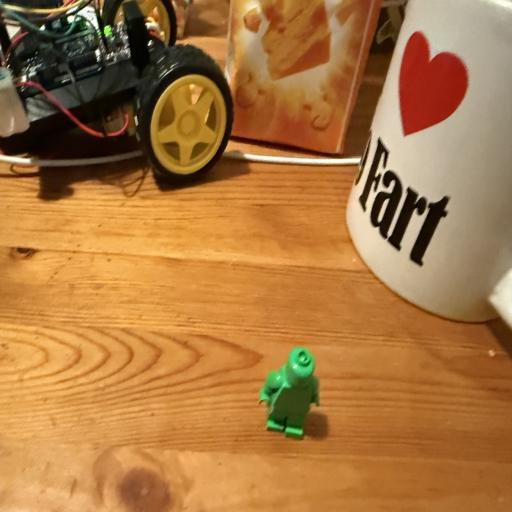Minifig: (259, 347, 319, 439)
